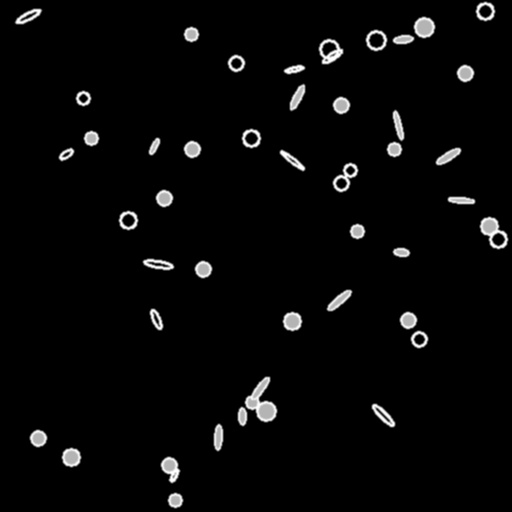pseudomonas: (370, 402, 396, 428), (326, 289, 352, 311), (279, 149, 305, 171), (249, 376, 271, 400), (435, 146, 461, 166), (15, 7, 41, 25), (288, 84, 306, 110), (321, 47, 343, 65), (392, 110, 404, 140), (149, 308, 163, 330), (143, 259, 173, 269), (58, 147, 74, 161), (148, 137, 160, 155), (448, 196, 474, 204), (214, 424, 222, 450), (168, 467, 180, 483), (284, 65, 304, 73), (394, 35, 412, 43), (393, 248, 409, 256), (239, 408, 245, 424)
synechocystis: (367, 31, 385, 49), (320, 40, 338, 58), (257, 402, 275, 420), (415, 18, 433, 36), (477, 3, 493, 19), (481, 218, 497, 234), (63, 449, 79, 465), (243, 130, 259, 146), (490, 231, 506, 247), (120, 212, 136, 228), (284, 313, 300, 329), (401, 313, 415, 327), (162, 458, 176, 472), (458, 66, 472, 80), (185, 142, 199, 156), (157, 191, 171, 205), (412, 332, 426, 346), (334, 98, 348, 112), (196, 262, 210, 276), (229, 56, 243, 70), (334, 176, 348, 190), (31, 431, 45, 445), (85, 132, 97, 144), (351, 225, 363, 237), (77, 92, 89, 104), (185, 28, 197, 40), (246, 396, 258, 408), (344, 164, 356, 176), (388, 143, 400, 155), (169, 494, 181, 506)
